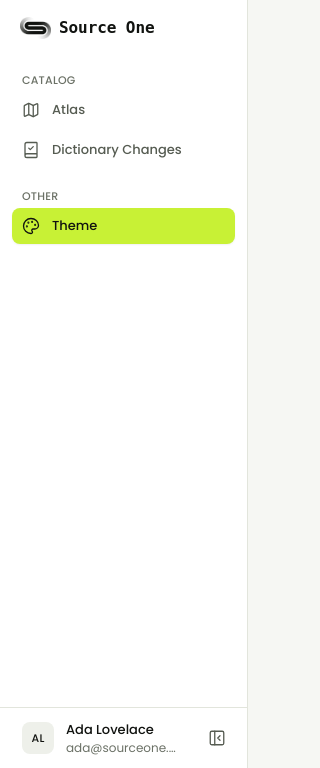
Test case: Sidebar › writes Source One beside the mark, and drops the name when folded
Check: the text "Source One" is shown, box [59,16,154,40]
Click the button named "Collapse sidebar". click: [217, 738]
box: [199,720,235,756]
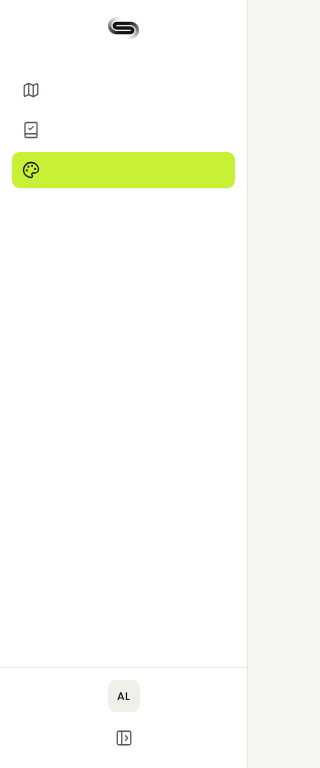
Check: the text "Source One" is gone
Check: the picture named "Source One" is shown, box [108,17,139,39]
